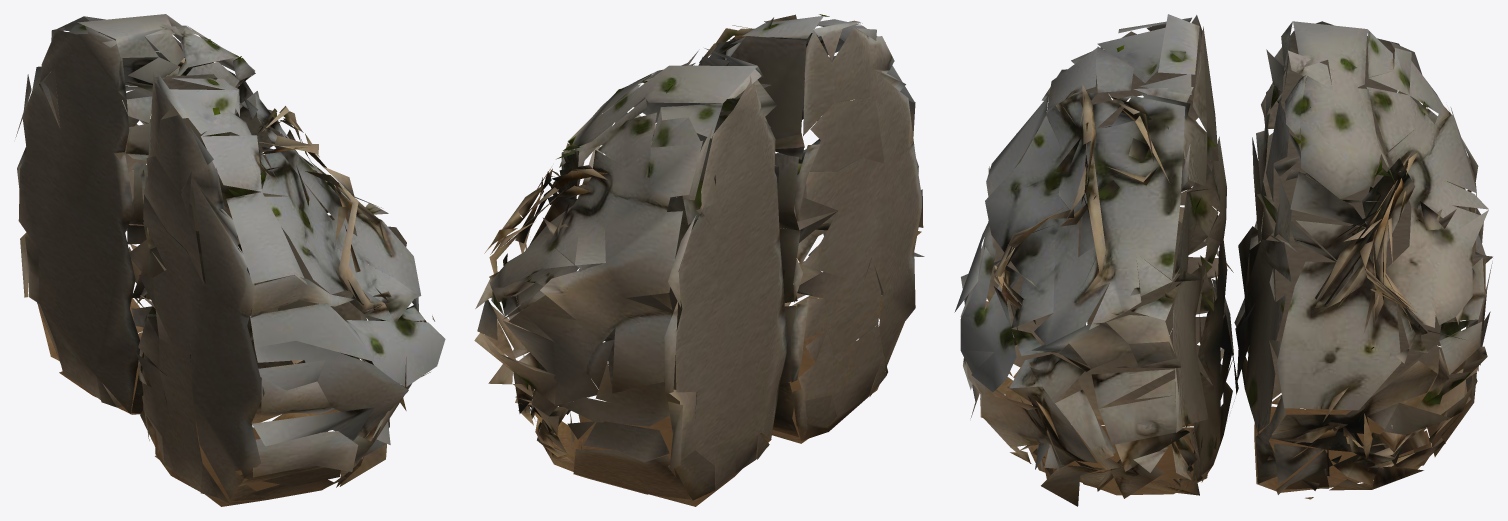
The model's file is jun_boulder_cluster_split_b_LOD3.glb.
3 views of the same model, side by side, from view 1: azimuth 30°, elevation 25°; view 2: azimuth 150°, elevation 25°; view 3: azimuth 270°, elevation 25° (orthographic). The views are drawn at different scales.
Visible parts, largest first — view 1: tripo_node_0cf42a20-0608-4773-b27a-2f9978b49fdc; view 2: tripo_node_0cf42a20-0608-4773-b27a-2f9978b49fdc; view 3: tripo_node_0cf42a20-0608-4773-b27a-2f9978b49fdc.
Part boxes in pixels (bbox=[...]): tripo_node_0cf42a20-0608-4773-b27a-2f9978b49fdc: bbox=[15, 14, 445, 506]; tripo_node_0cf42a20-0608-4773-b27a-2f9978b49fdc: bbox=[474, 14, 924, 506]; tripo_node_0cf42a20-0608-4773-b27a-2f9978b49fdc: bbox=[954, 14, 1492, 506].
Bounding box in the file's own units: 0.5233 × 0.8954 × 1.02.
1 material, 1 textured.
